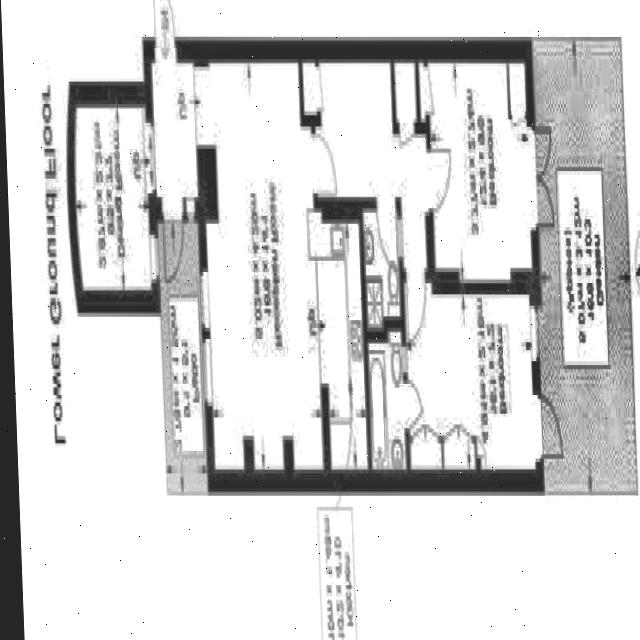room: (151, 55, 367, 476), (301, 57, 431, 274), (403, 281, 535, 475), (419, 60, 532, 285), (72, 107, 150, 292), (157, 222, 207, 498), (366, 333, 406, 469), (362, 212, 400, 328)
